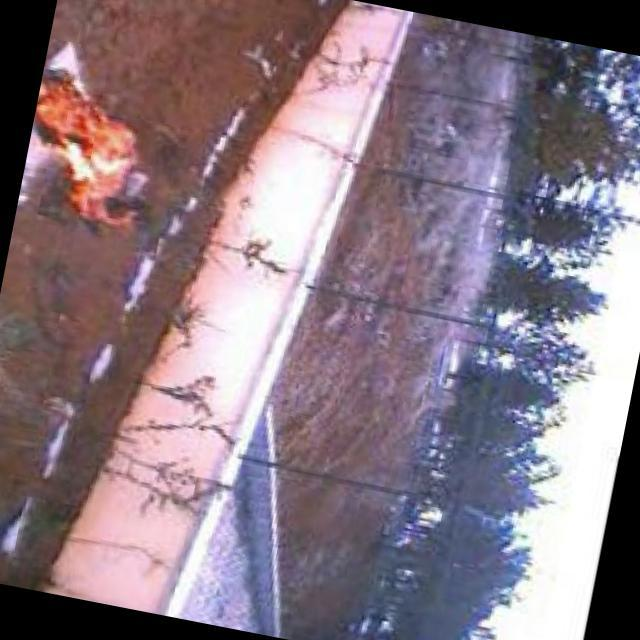Fire: (16, 64, 165, 236)
